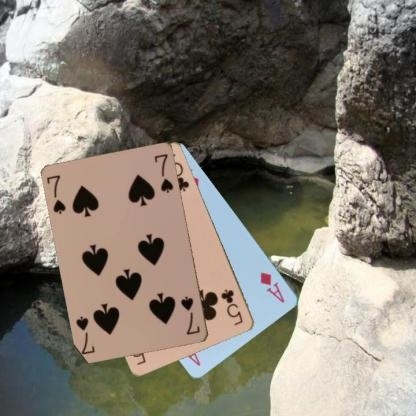5c: (218, 287, 244, 327)
7s: (44, 172, 68, 216), (178, 294, 202, 336)
Ad: (258, 269, 286, 304)
